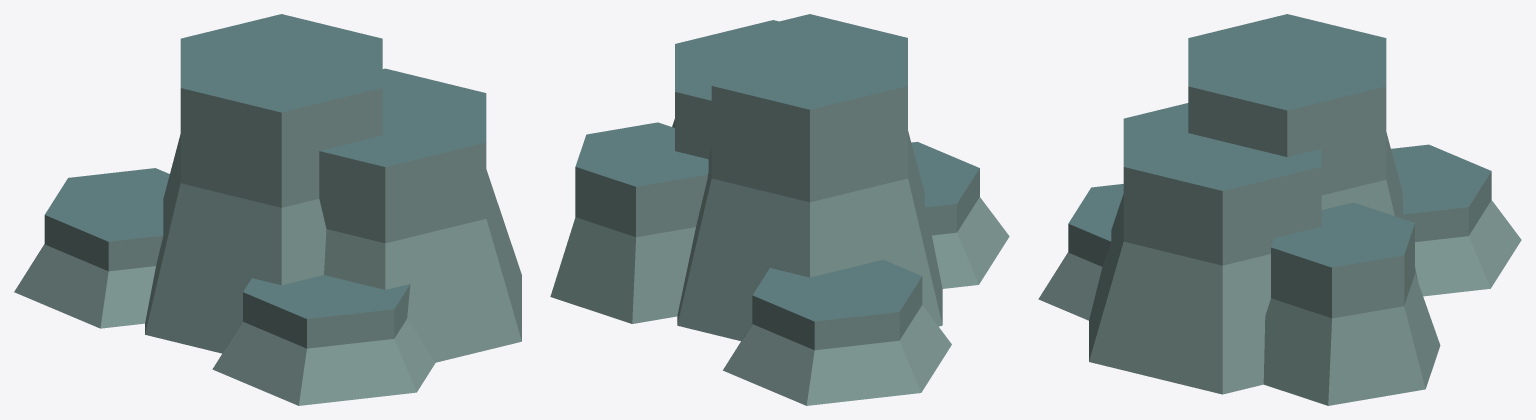
File: rock_largeB.glb
3 views of the same model, side by side, from view 1: azimuth 30°, elevation 25°; view 2: azimuth 150°, elevation 25°; view 3: azimuth 270°, elevation 25° (orthographic). The views are drawn at different scales.
Visible parts, largest first — view 1: rock_largeB; view 2: rock_largeB; view 3: rock_largeB.
Part boxes in pixels (x1,y1,x2,y2): rock_largeB: (14, 14, 521, 405); rock_largeB: (550, 14, 1009, 405); rock_largeB: (1038, 14, 1521, 405).
Bounding box in the file's own units: 0.9278 × 0.5 × 0.9393.
